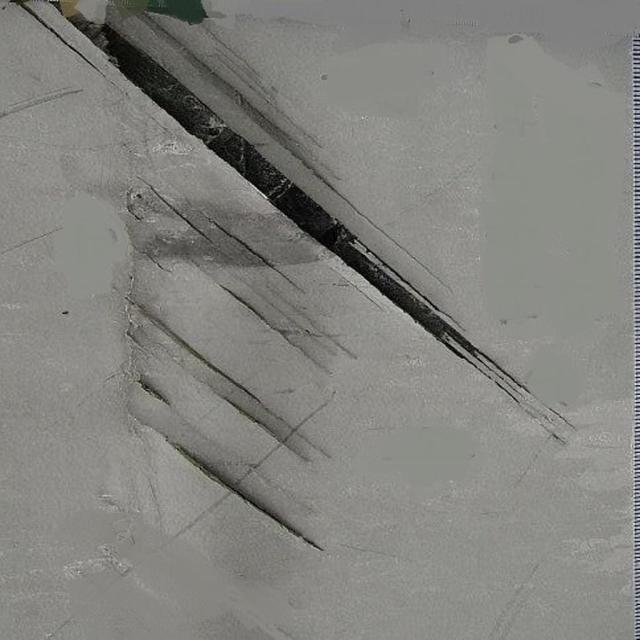crack: (31, 3, 511, 392), (125, 408, 334, 551)
